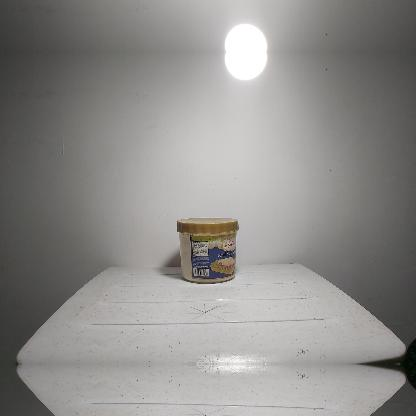Lady-s-Choice: (176, 216, 240, 284)
